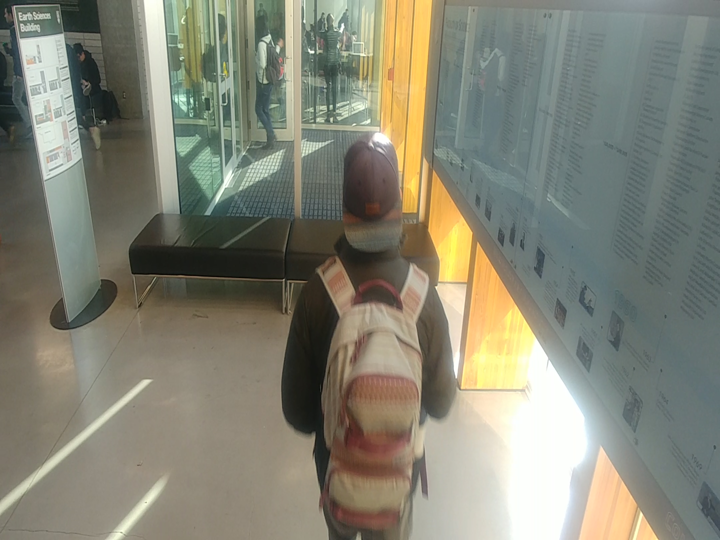face: (338, 127, 414, 260), (250, 8, 274, 42), (70, 37, 89, 67), (0, 2, 18, 30), (322, 8, 337, 31)
human: (277, 125, 464, 540), (250, 10, 287, 151), (0, 0, 36, 142), (314, 10, 348, 128), (70, 36, 111, 132)
